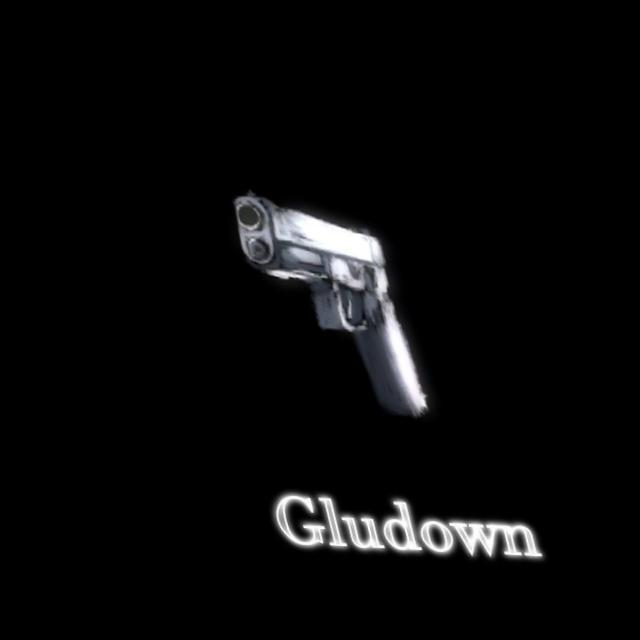nonspitting: (274, 493, 544, 564)
spitting: (230, 195, 430, 419)
